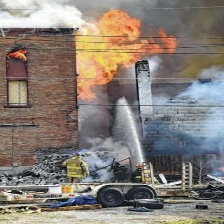fire: (75, 9, 177, 99), (10, 46, 29, 60)
smoke: (186, 77, 224, 151), (1, 1, 90, 29), (76, 105, 123, 156)
